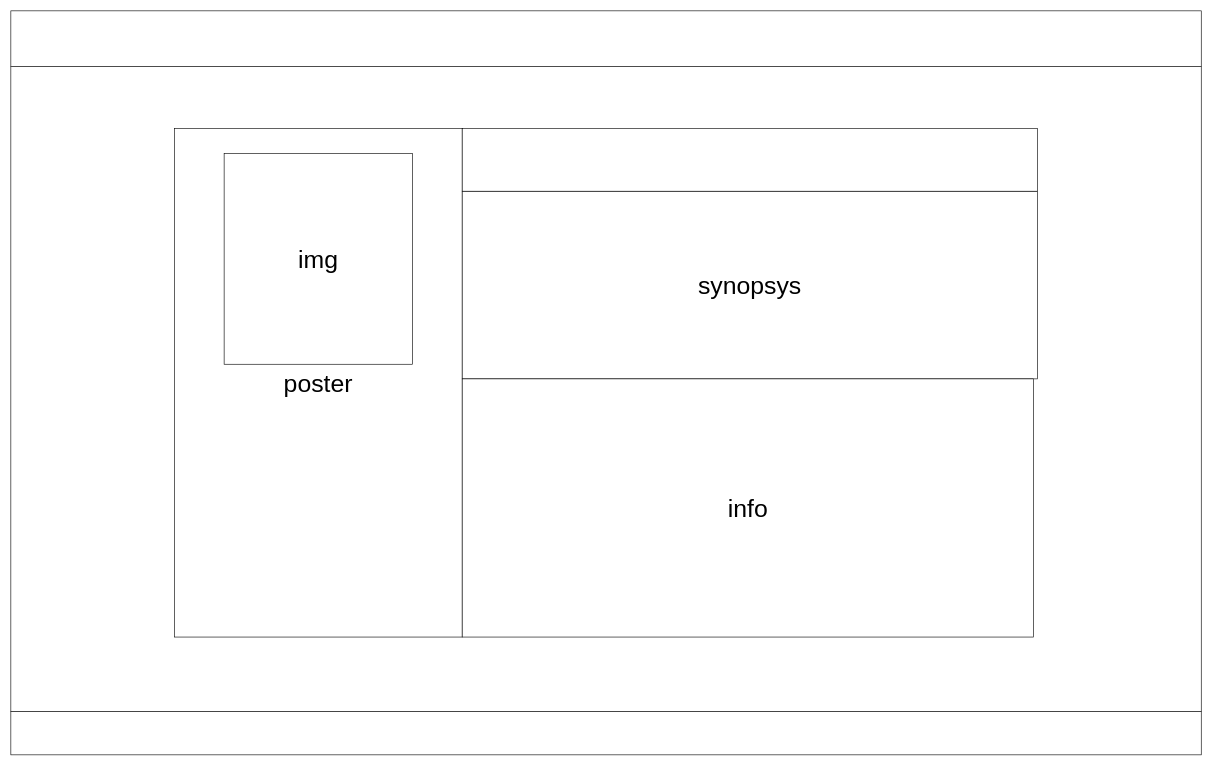
The diagram is 1212 pixels wide and 766 high, and some of its shapes have lost their labels. The centre of each missing label's shape, as x and y in pixels:
footer: the point at 605,733
header: the point at 605,38
title: the point at 750,159
